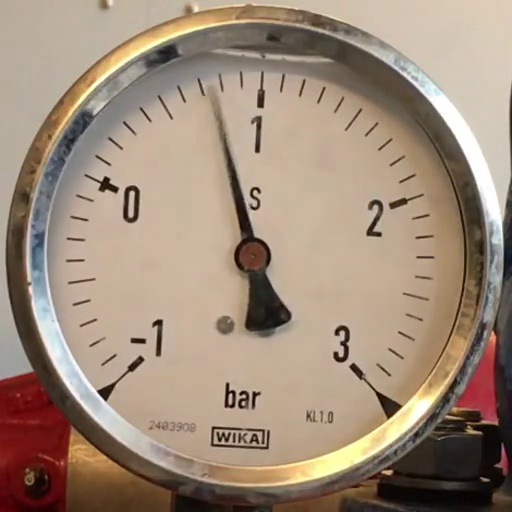base: (232, 238, 272, 274)
circle_plate: (46, 54, 466, 466)
maximum: (348, 362, 366, 380)
minimum: (127, 355, 145, 374)
number: (127, 317, 166, 359), (120, 182, 142, 226), (364, 196, 386, 240), (330, 322, 352, 364), (247, 112, 265, 156)
tip: (204, 84, 220, 99)
